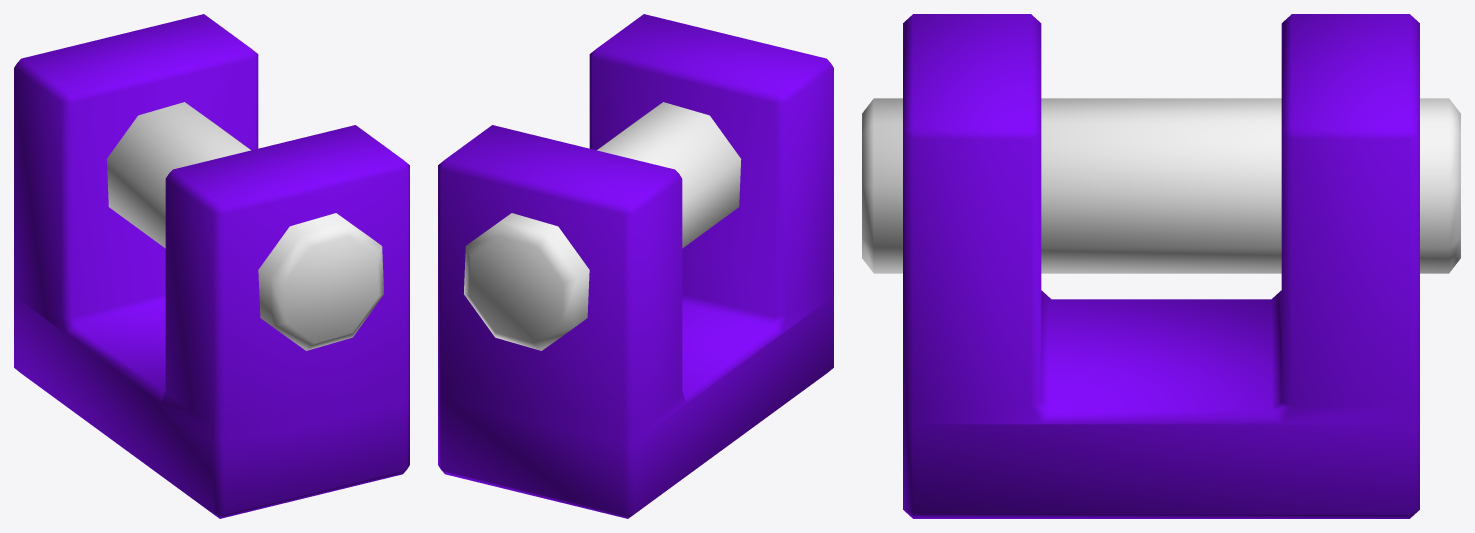
Rendered from Ground_Hammer_Socket_05.fbx.
3 views of the same model, side by side, from view 1: azimuth 30°, elevation 25°; view 2: azimuth 150°, elevation 25°; view 3: azimuth 270°, elevation 25° (orthographic). The views are drawn at different scales.
Visible parts, largest first — view 1: Obstacle_Ground_Hammer_Socket_05; view 2: Obstacle_Ground_Hammer_Socket_05; view 3: Obstacle_Ground_Hammer_Socket_05.
Part boxes in pixels (bbox=[...]): Obstacle_Ground_Hammer_Socket_05: bbox=[14, 14, 409, 518]; Obstacle_Ground_Hammer_Socket_05: bbox=[438, 14, 833, 518]; Obstacle_Ground_Hammer_Socket_05: bbox=[862, 14, 1460, 518].
Bounding box in the file's own units: 48.66 × 74.34 × 102.
1 material, 1 textured.
